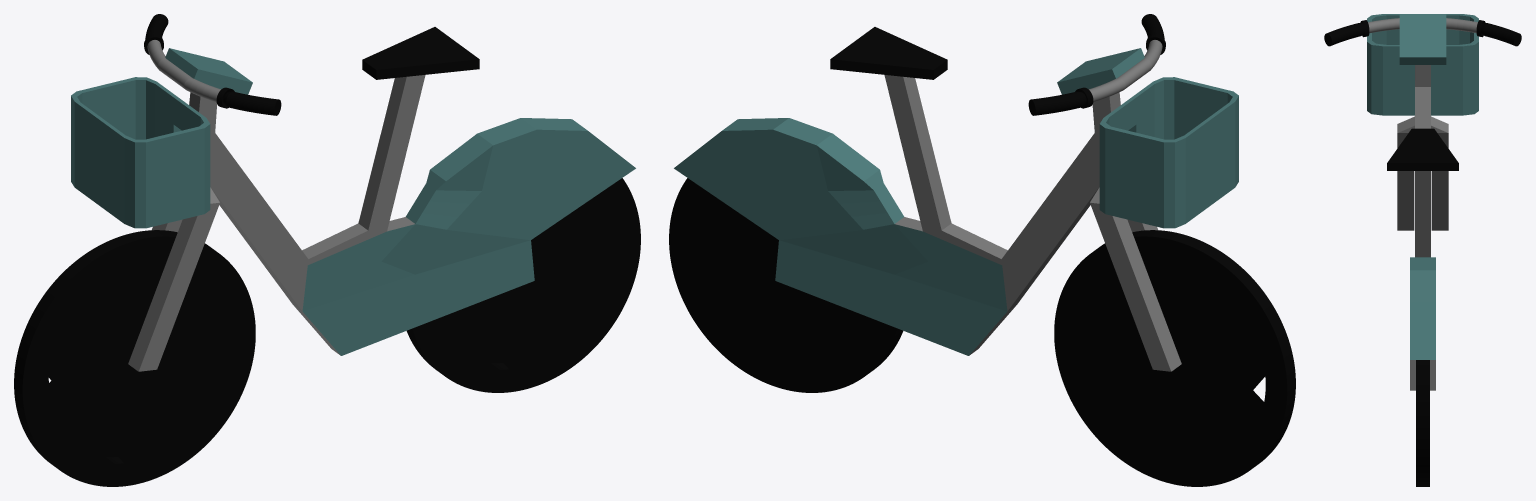
The model's file is velibV1.fbx.
3 renders of one model, left to right at view 1: azimuth 30°, elevation 25°; view 2: azimuth 150°, elevation 25°; view 3: azimuth 270°, elevation 25°, orthographic. The views are drawn at different scales.
Visible parts, largest first — view 1: cadre, roueav, rouear, panier, guidon; view 2: cadre, roueav, rouear, panier, guidon; view 3: cadre, panier, guidon, rouear.
Part boxes in pixels (bbox=[...]): cadre: bbox=[128, 27, 635, 371]; roueav: bbox=[14, 230, 255, 486]; rouear: bbox=[406, 178, 640, 392]; panier: bbox=[71, 77, 210, 228]; guidon: bbox=[144, 14, 281, 115]; cadre: bbox=[674, 27, 1181, 371]; roueav: bbox=[1054, 230, 1295, 486]; rouear: bbox=[669, 178, 903, 392]; panier: bbox=[1099, 77, 1238, 228]; guidon: bbox=[1028, 14, 1165, 115]; cadre: bbox=[1387, 14, 1458, 390]; panier: bbox=[1367, 14, 1478, 115]; guidon: bbox=[1324, 18, 1521, 46]; rouear: bbox=[1416, 360, 1429, 486].
Size of the model in its own units: 1353 by 858 by 464.
